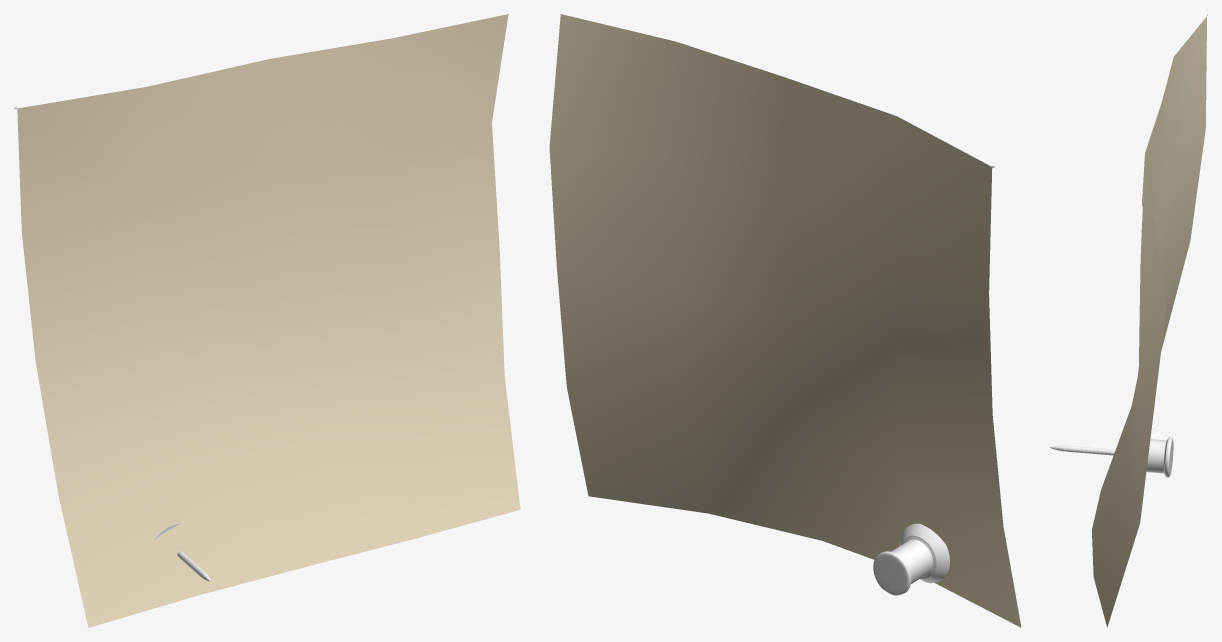
File: note.glb
3 renders of one model, left to right at view 1: azimuth 30°, elevation 25°; view 2: azimuth 150°, elevation 25°; view 3: azimuth 270°, elevation 25°, orthographic. The views are drawn at different scales.
Parts seen in each view (by area): view 1: Postit; view 2: Postit, Pin; view 3: Postit, Pin, tip.
Boxes of the visible parts, box(x1,y1,x2,y2) form: Postit: box(14, 14, 520, 627); Postit: box(549, 14, 1021, 627); Pin: box(873, 523, 949, 595); Postit: box(1092, 14, 1207, 627); Pin: box(1146, 437, 1173, 477); tip: box(1050, 445, 1115, 455).
Bounding box in the file's own units: 1.99 × 2.08 × 0.6678.
